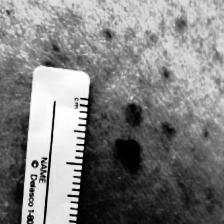Benign Marking or Mole: (113, 136, 146, 172), (123, 100, 145, 128), (95, 26, 116, 45), (174, 14, 190, 32)
